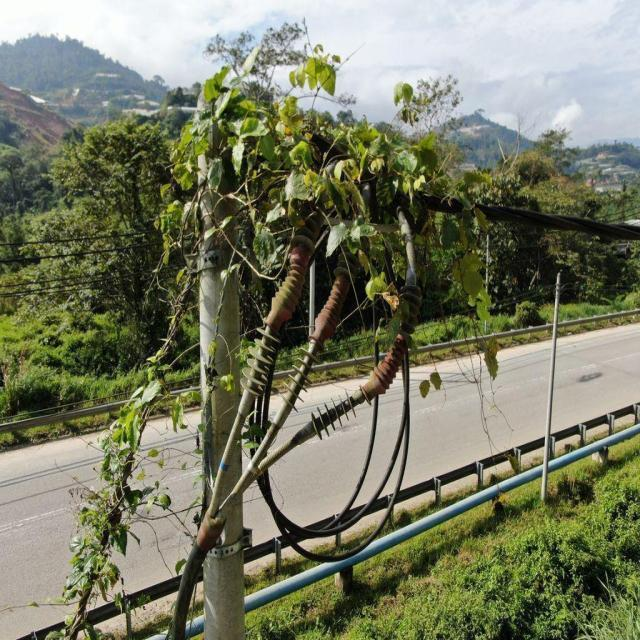critical vegetation: (55, 29, 497, 602)
